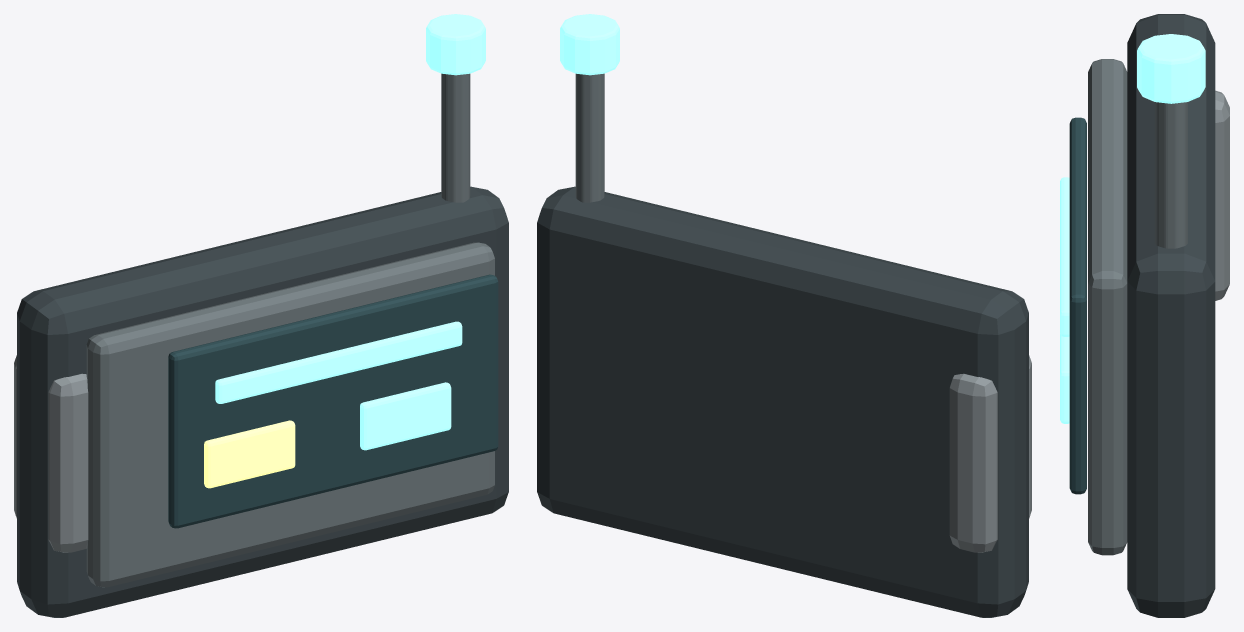
File: IntelDatapad_A.fbx
The picture shows the model from 3 angles, left to right: view 1: azimuth 30°, elevation 25°; view 2: azimuth 150°, elevation 25°; view 3: azimuth 270°, elevation 25°; orthographic projection. The views are drawn at different scales.
Visible parts, largest first — view 1: Intel Datapad Body, Intel Datapad Bezel, Intel Datapad Screen, Intel Datapad Grip, Intel Datapad Cipher Grid, Intel Datapad Cipher Key, Intel Datapad Status, Intel Datapad Antenna, Intel Datapad Beacon; view 2: Intel Datapad Body, Intel Datapad Grip, Intel Datapad Antenna, Intel Datapad Beacon; view 3: Intel Datapad Body, Intel Datapad Bezel, Intel Datapad Screen, Intel Datapad Antenna, Intel Datapad Beacon, Intel Datapad Grip, Intel Datapad Cipher Grid, Intel Datapad Status.
Part boxes in pixels (x1=…): Intel Datapad Body: x1=17, y1=186, x2=508, y2=617; Intel Datapad Bezel: x1=86, y1=242, x2=494, y2=587; Intel Datapad Screen: x1=168, y1=274, x2=498, y2=528; Intel Datapad Grip: x1=14, y1=355, x2=88, y2=552; Intel Datapad Cipher Grid: x1=215, y1=321, x2=462, y2=403; Intel Datapad Cipher Key: x1=204, y1=420, x2=295, y2=488; Intel Datapad Status: x1=360, y1=382, x2=451, y2=450; Intel Datapad Antenna: x1=441, y1=73, x2=470, y2=202; Intel Datapad Beacon: x1=426, y1=14, x2=485, y2=75; Intel Datapad Body: x1=537, y1=186, x2=1028, y2=617; Intel Datapad Grip: x1=949, y1=355, x2=1031, y2=552; Intel Datapad Antenna: x1=575, y1=73, x2=604, y2=202; Intel Datapad Beacon: x1=560, y1=14, x2=619, y2=75; Intel Datapad Body: x1=1127, y1=14, x2=1215, y2=617; Intel Datapad Bezel: x1=1088, y1=59, x2=1127, y2=555; Intel Datapad Screen: x1=1069, y1=117, x2=1086, y2=494; Intel Datapad Antenna: x1=1154, y1=102, x2=1187, y2=248; Intel Datapad Beacon: x1=1137, y1=34, x2=1205, y2=103; Intel Datapad Grip: x1=1215, y1=90, x2=1229, y2=300; Intel Datapad Cipher Grid: x1=1060, y1=177, x2=1069, y2=336; Intel Datapad Status: x1=1060, y1=333, x2=1069, y2=423.
Bounding box in the file's own units: 1.28 × 1.26 × 0.3475.
